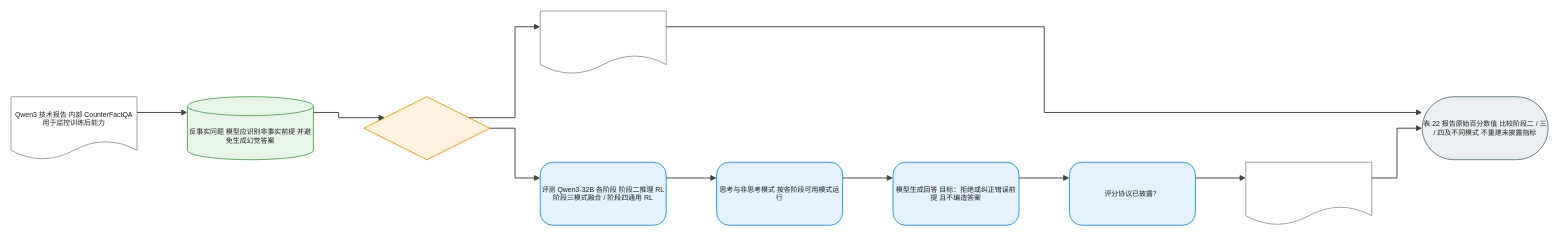
This 1560x237 diagram has some shape labels left out. The box of each missing label's shape, as (x1, y1, x2, y2) in pixels:
公开资料未说明 来源 / 题数 / 划分 / 提示 标准答案 / 污染策略: (539, 10, 666, 74)
公开资料未说明 裁判 / 量表 / 分数单位 聚合公式: (1245, 161, 1372, 225)
构建已披露？: (363, 96, 490, 160)
